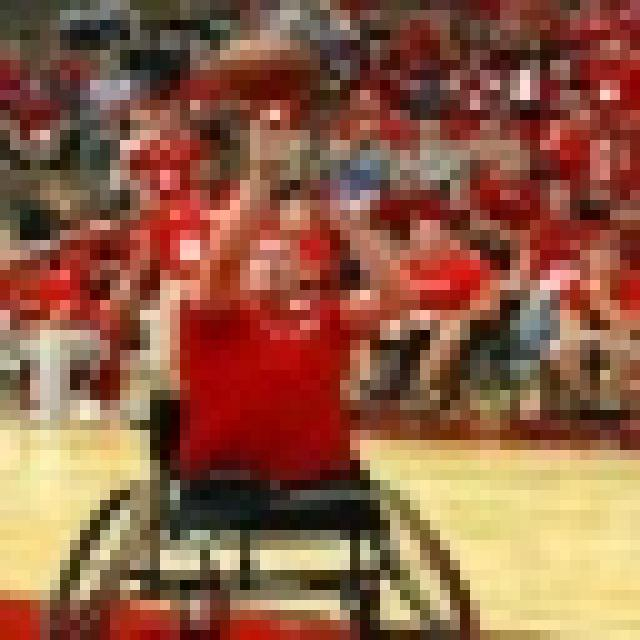wheelchairs: (45, 389, 489, 640)
